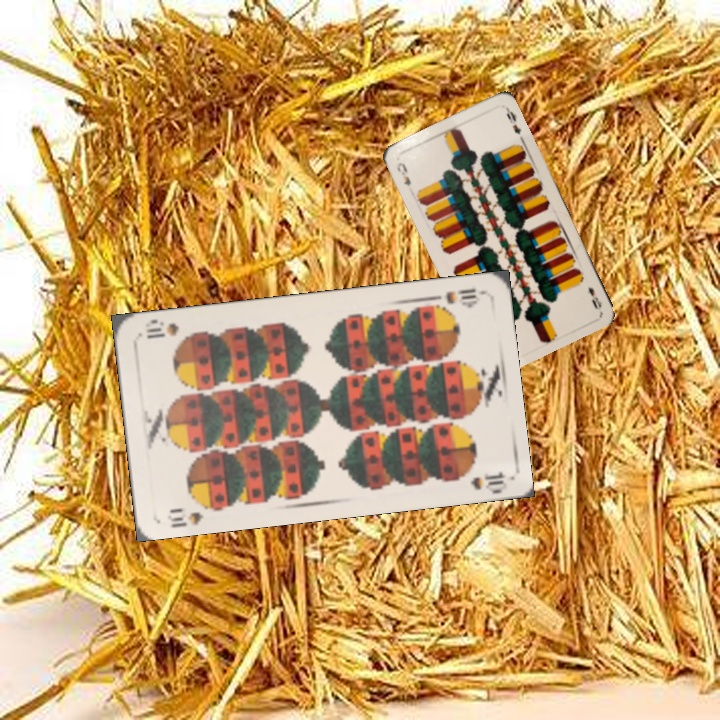E9: (584, 283, 605, 312), (393, 158, 413, 188)
S10: (163, 498, 218, 530), (442, 284, 485, 309)
